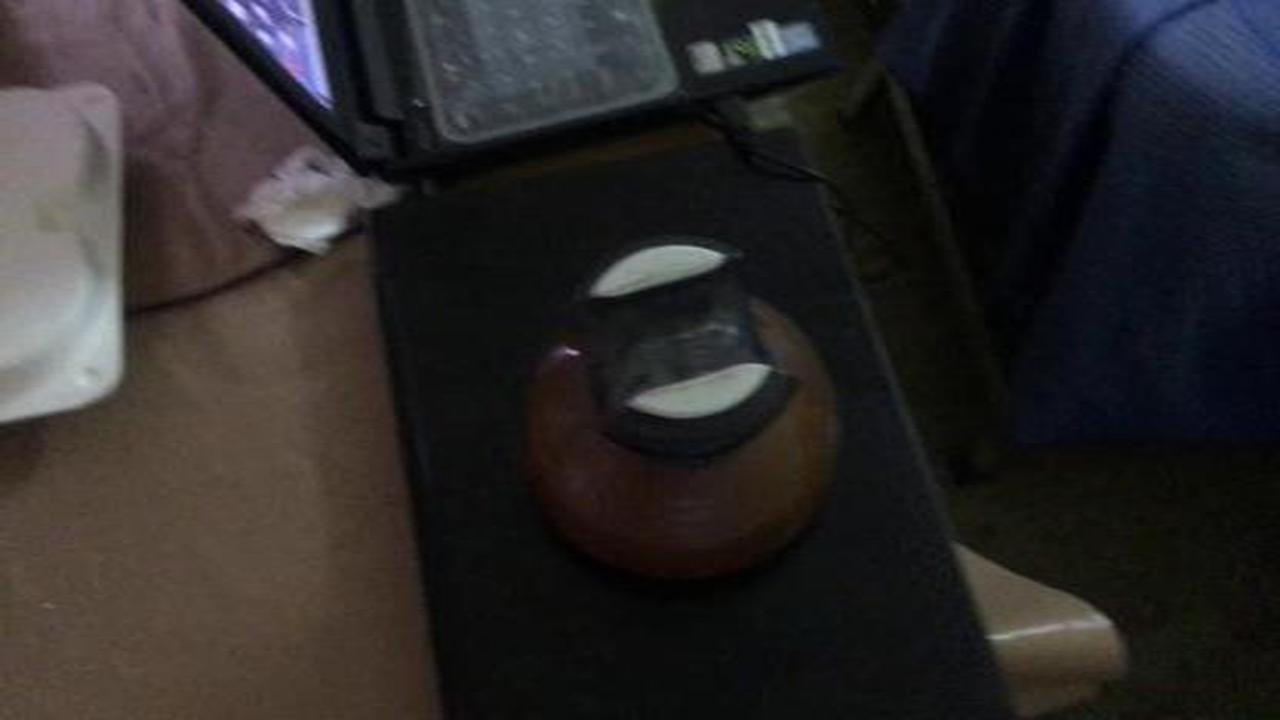insulator_pin: (484, 229, 881, 598)
